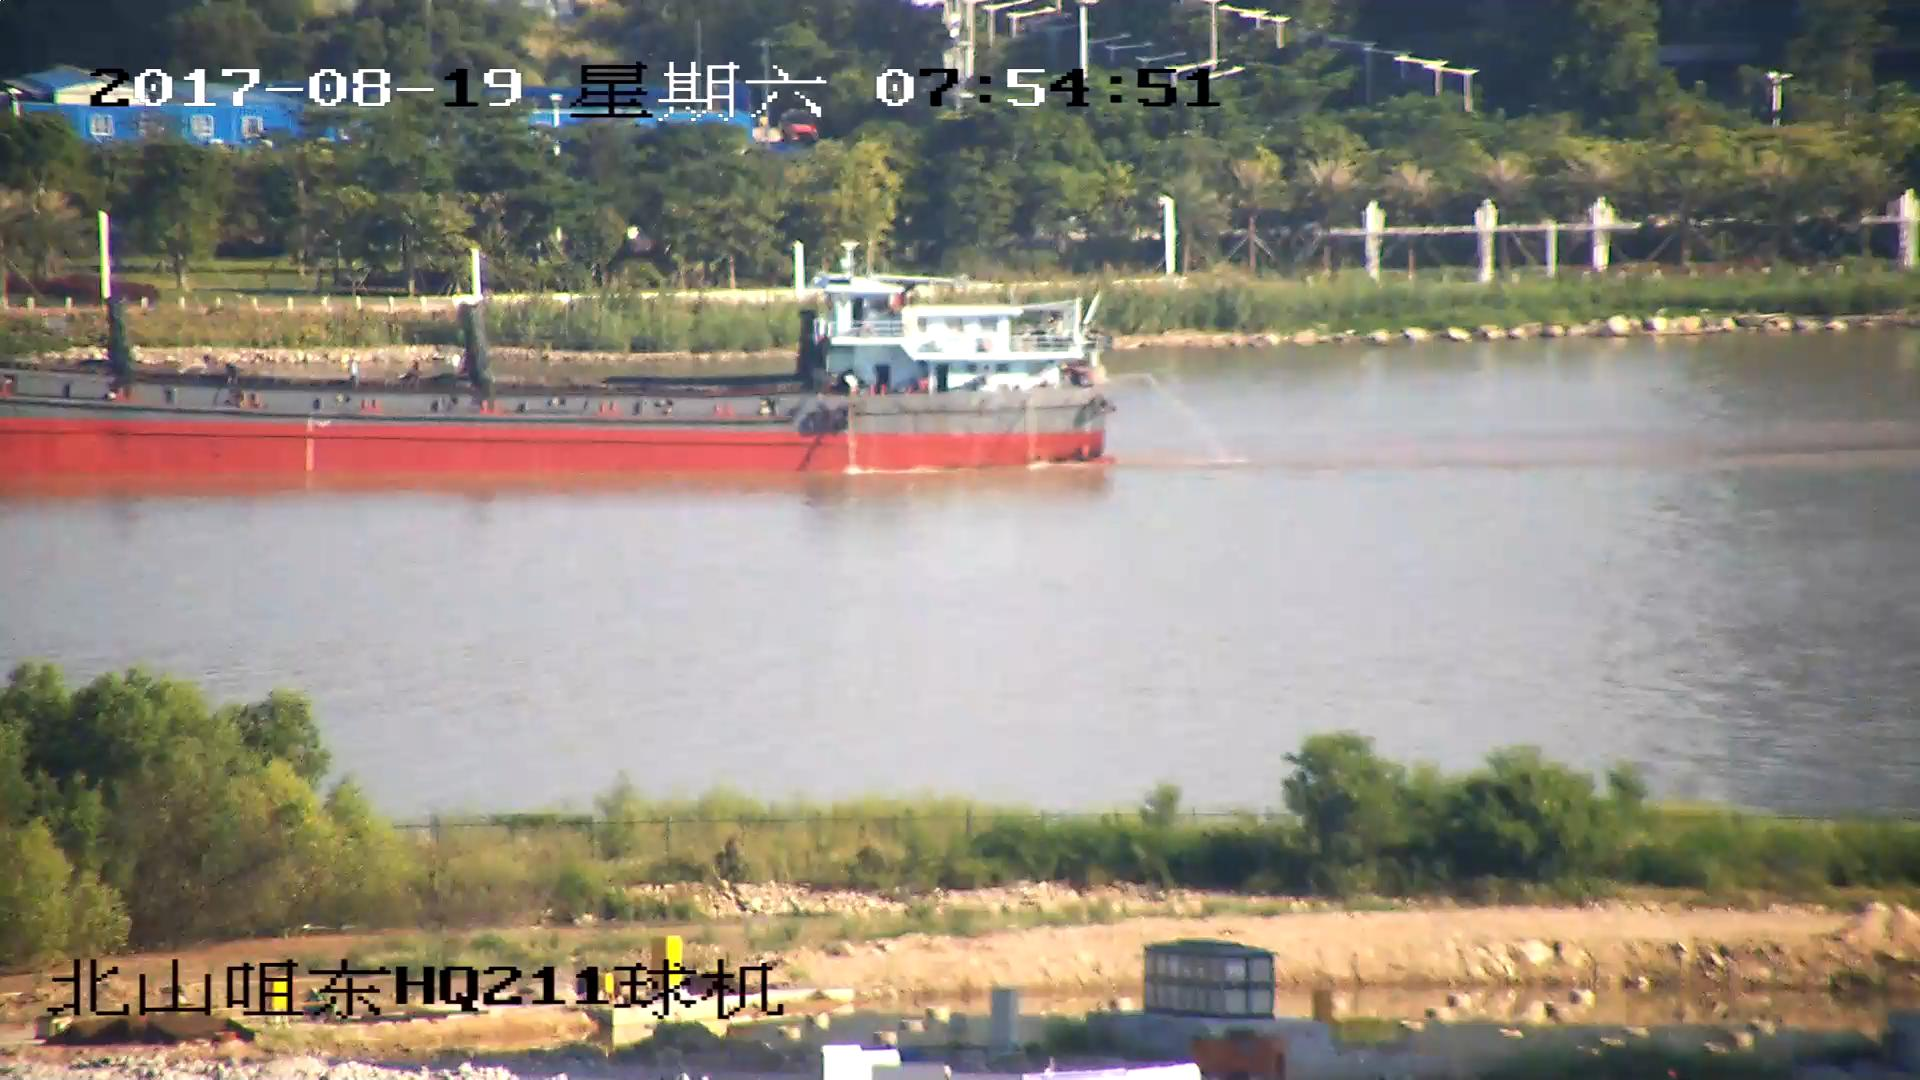bulk cargo carrier: (1, 255, 1121, 480)
